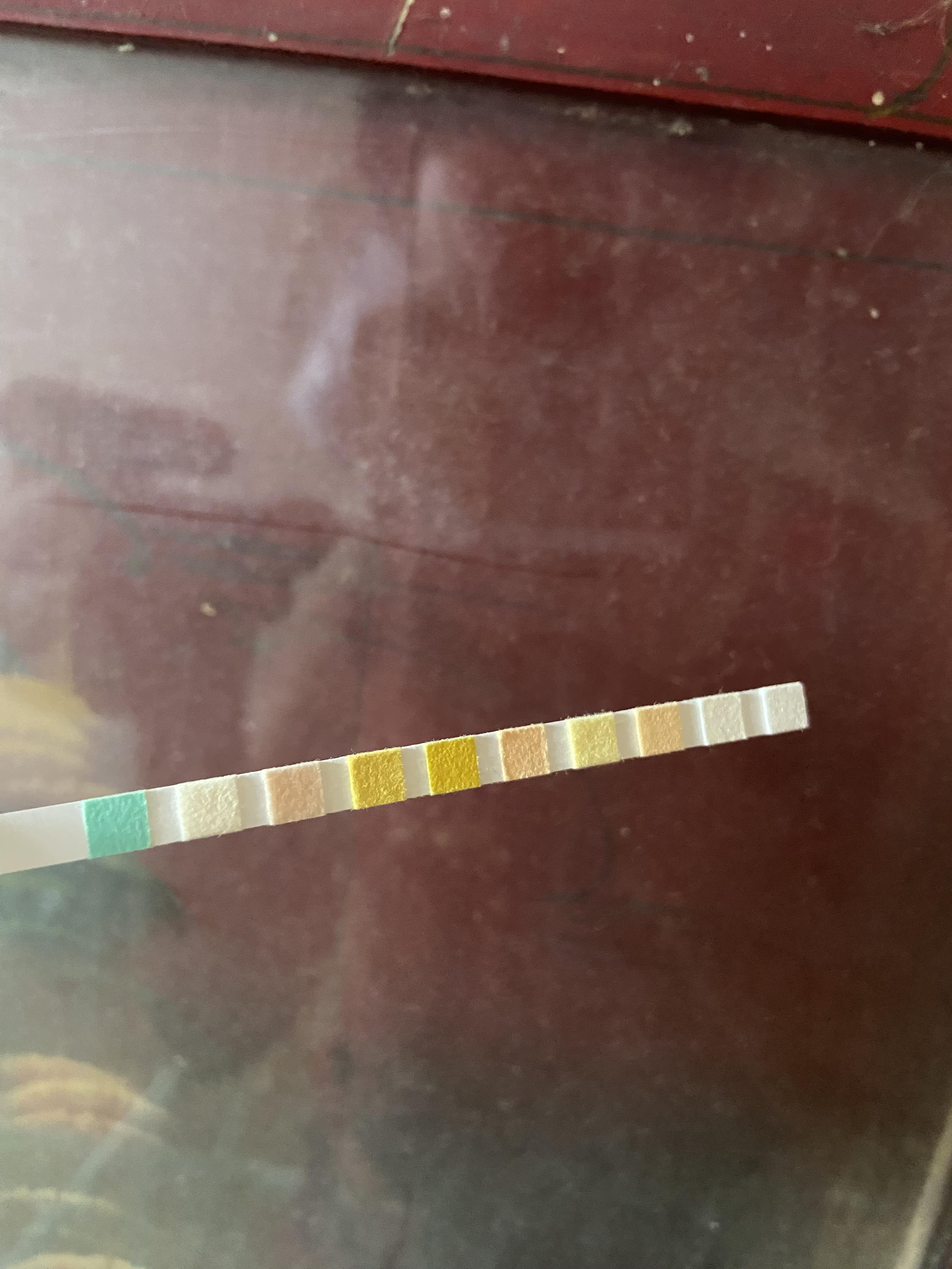Bilirubin: (188, 784, 233, 832)
Blood: (433, 743, 472, 787)
Glucose: (93, 800, 142, 850)
Ketone: (273, 769, 318, 819)
Leukocytes: (772, 688, 801, 729)
Nitrite: (709, 698, 739, 739)
Protein: (579, 720, 612, 763)
SpGravity: (358, 755, 400, 800)
Urobilinogen: (644, 709, 677, 751)
pH: (508, 730, 542, 775)
strip: (2, 683, 812, 874)
